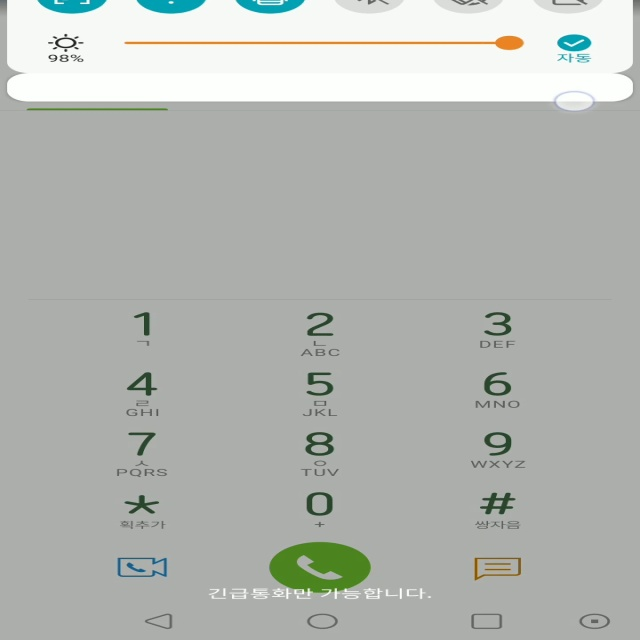Cursor: (552, 90, 597, 112)
